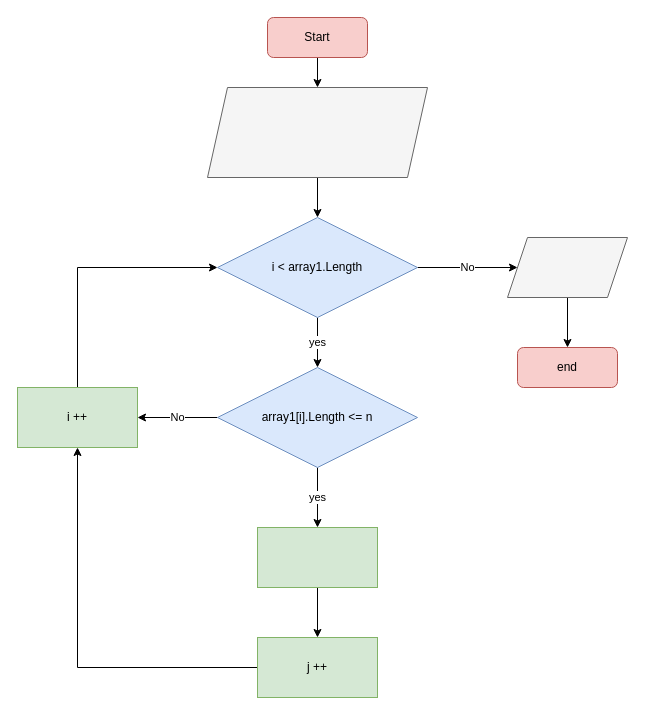
The diagram is 645 pixels wide and 715 high, and some of its shapes have lost their labels. Here are the shapes that lost their labels. From the top down, the centre of each, then its label:
At pixel 317 132: "String[] = array1 String[] = array2 int i = 0 int j = 0 int n = 3".
At pixel 567 267: "print array2".
At pixel 317 557: "array2[j] = array1[i]".
